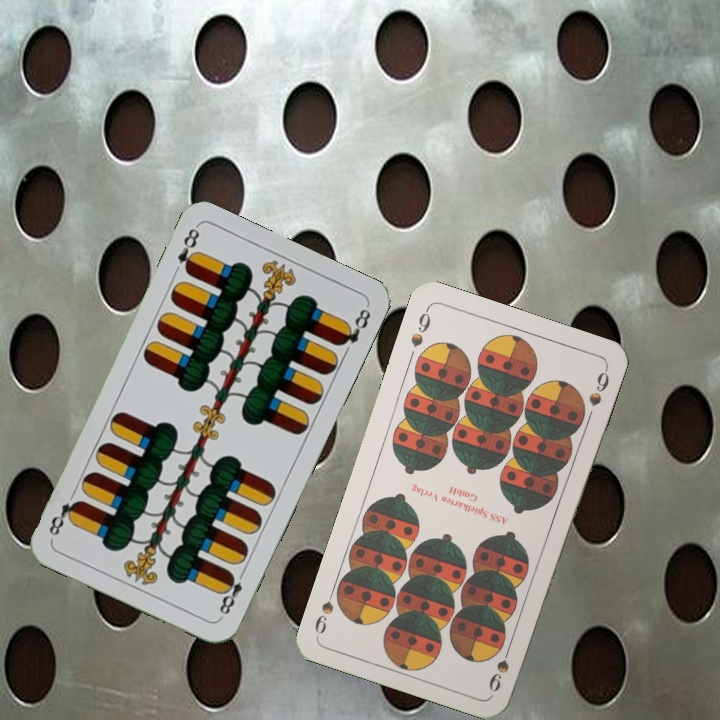E8: (215, 565, 248, 620), (173, 224, 203, 276)
S9: (484, 638, 515, 695), (406, 304, 433, 350)
